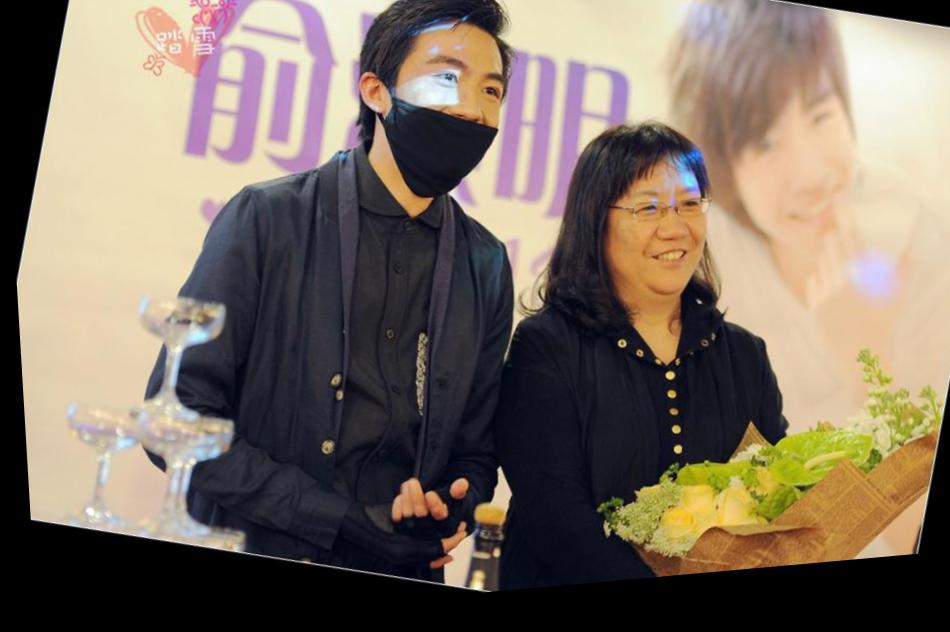NONE: (729, 85, 871, 261), (596, 173, 720, 316)
WRONG: (350, 33, 524, 212)
